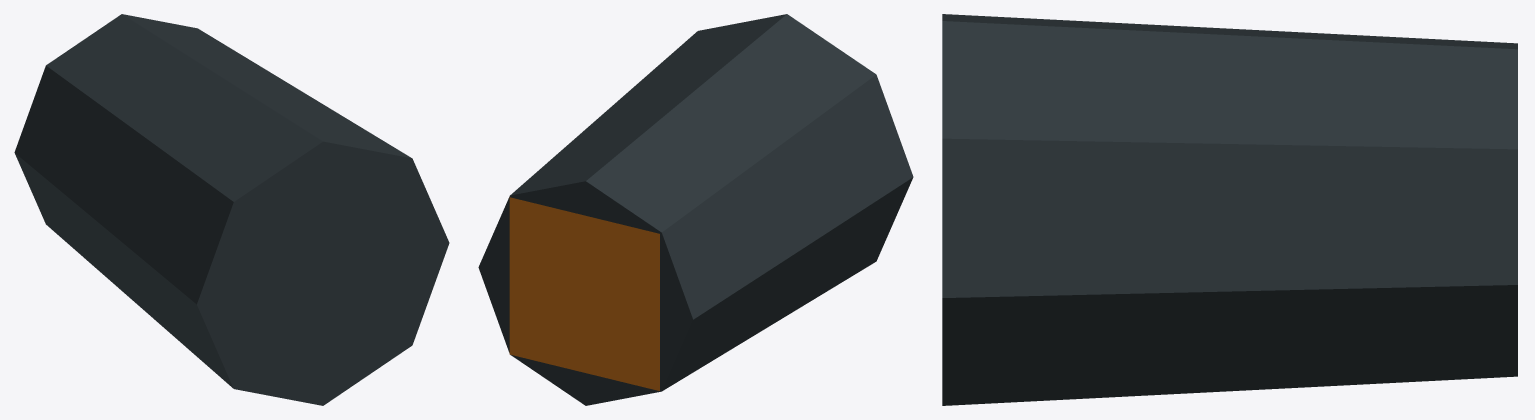
The picture shows the model from 3 angles, left to right: view 1: azimuth 30°, elevation 25°; view 2: azimuth 150°, elevation 25°; view 3: azimuth 270°, elevation 25°; orthographic projection. The views are drawn at different scales.
Parts seen in each view (by area): view 1: mount; view 2: mount; view 3: mount.
Boxes of the visible parts, x1,y1,x2,y2 form: mount: (14,14,449,405); mount: (478,14,913,405); mount: (942,14,1517,405).
Bounding box in the file's own units: 5 × 5 × 6.93.
